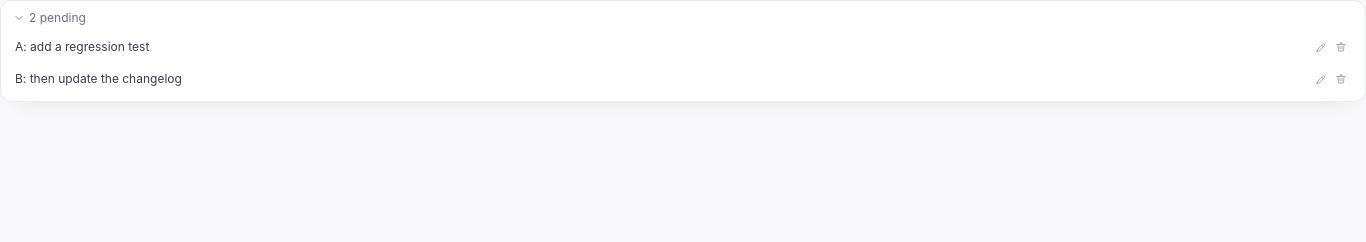
Test case: PendingMessageQueue › saves at the revision the draft was written against, not the one read since
Click the button named "Edit queued message" in the row of "A: add a regression test" at (1321, 47), box [1311,37,1331,57]
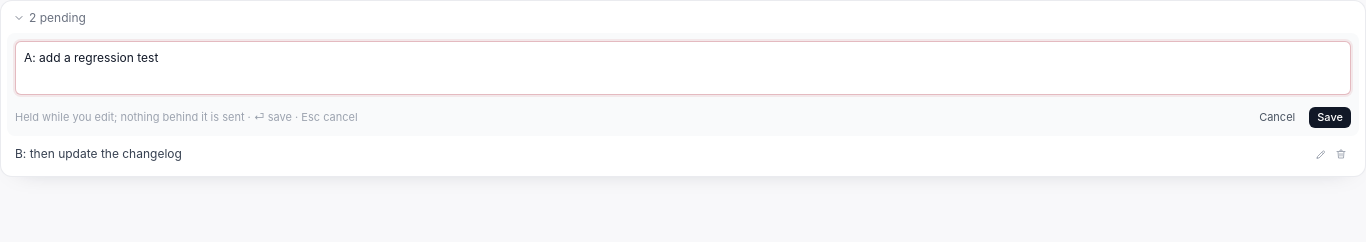
Replace the text in the text box named "Edit queued message" with "my version" at (683, 68), box [15,41,1351,95]
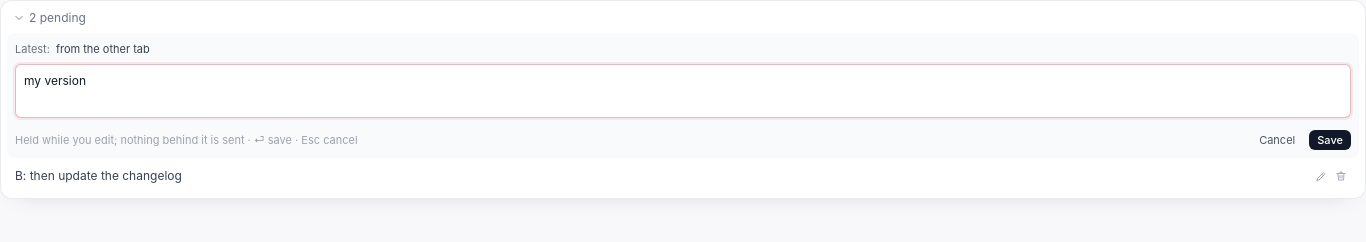
Now the text "from the other tab" is shown, box [56,41,150,58]
Click the button "Save" at (1330, 140), box [1309,130,1351,150]
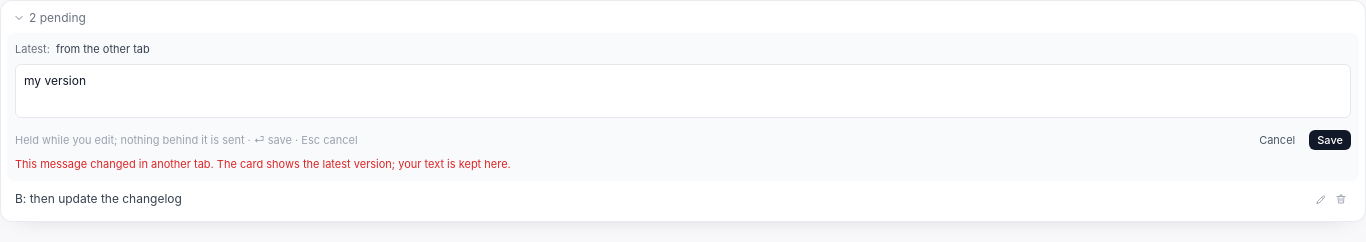
Now the text "from the other tab" is shown, box [56,41,150,58]
Now the message shows "another tab", box [15,157,511,171]
Note: Having seen what won, saving again is a choice to replace it.
Click the button "Save" at (1330, 140), box [1309,130,1351,150]
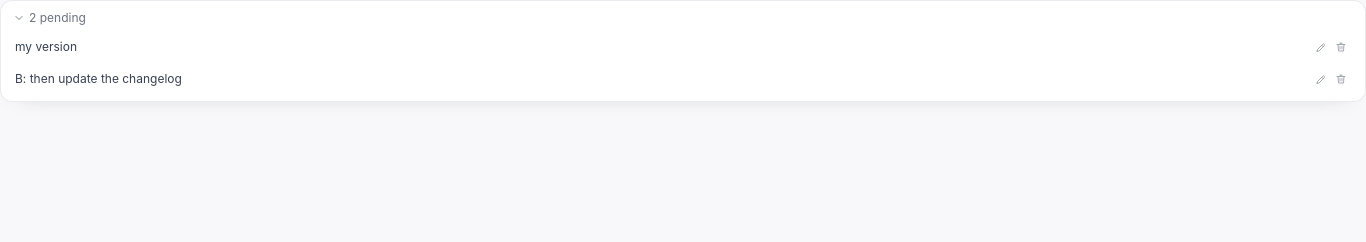
Now the text "my version" is shown, box [15,39,77,54]
